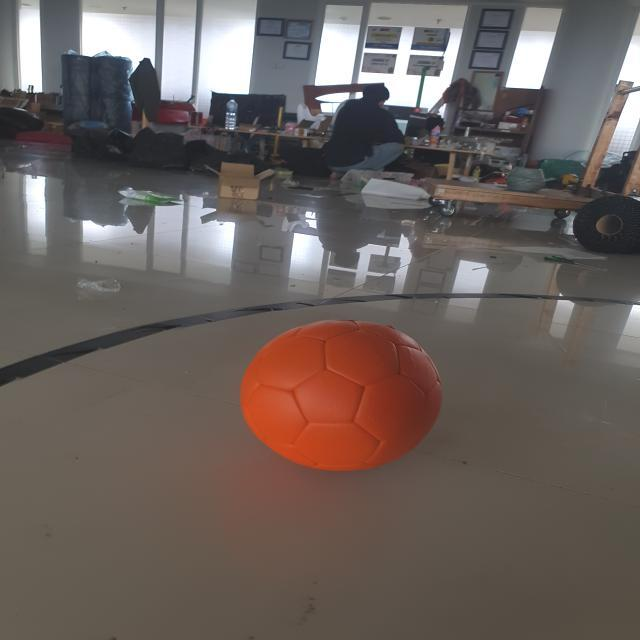bola: (235, 309, 448, 480)
